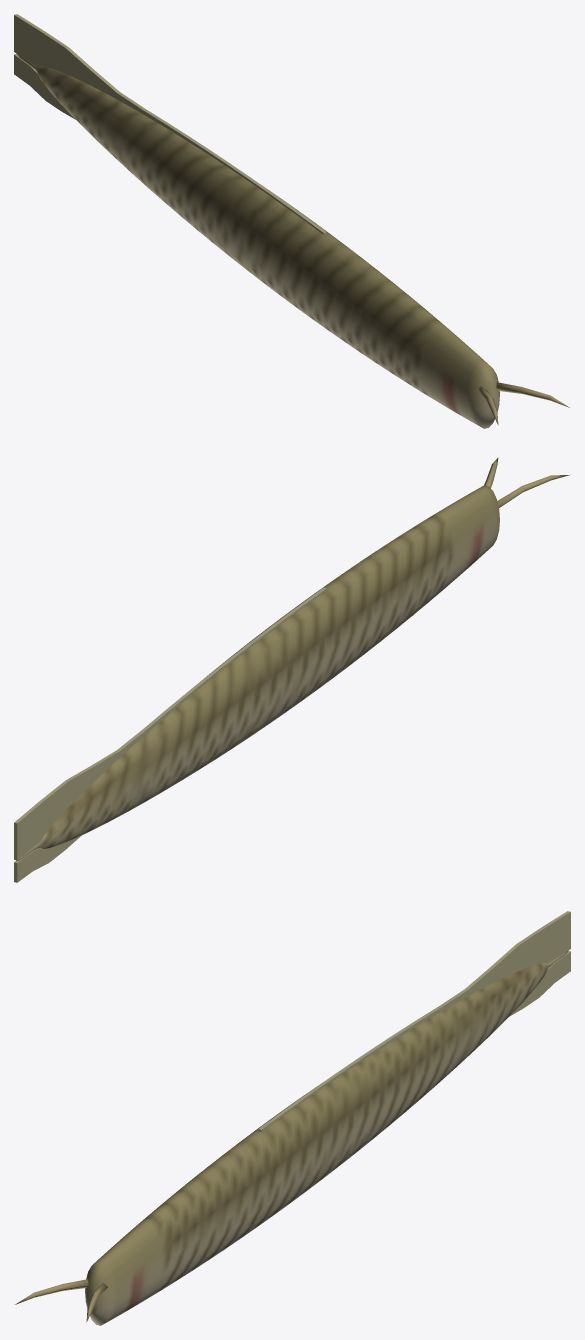
The model's file is Pikaia.fbx.
3 renders of one model, top to bottom at view 1: azimuth 30°, elevation 25°; view 2: azimuth 150°, elevation 25°; view 3: azimuth 330°, elevation 25°, orthographic.
Visible parts, largest first — view 1: Pikaia; view 2: Pikaia; view 3: Pikaia.
Part boxes in pixels (x1,y1,x2,y2): Pikaia: [14, 14, 569, 428]; Pikaia: [14, 457, 570, 882]; Pikaia: [15, 911, 570, 1325].
Bounding box in the file's own units: 0.088 × 0.1066 × 1.09.
